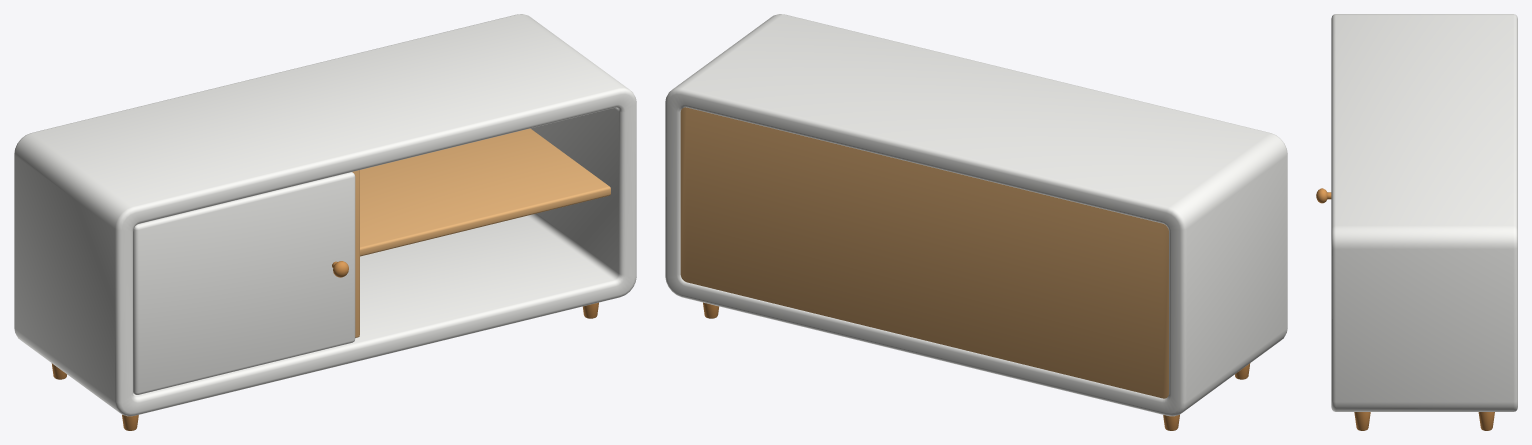
Rendered from rack_porta_nicho_branco.glb.
3 renders of one model, left to right at view 1: azimuth 30°, elevation 25°; view 2: azimuth 150°, elevation 25°; view 3: azimuth 270°, elevation 25°, orthographic. The views are drawn at different scales.
Visible parts, largest first — view 1: rack_porta_nicho_branco, porta_1; view 2: rack_porta_nicho_branco; view 3: rack_porta_nicho_branco.
Part boxes in pixels (x1,y1,x2,y2): rack_porta_nicho_branco: (14, 14, 636, 430); porta_1: (133, 172, 355, 394); rack_porta_nicho_branco: (665, 14, 1287, 430); rack_porta_nicho_branco: (1331, 14, 1517, 430).
Size of the model in its own units: 1.2 by 0.52 by 0.4546.
Materials: 1 (1 with a texture image).
